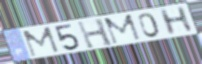0: (138, 12, 161, 38)
5: (53, 22, 82, 52)
H: (75, 17, 116, 51), (157, 5, 195, 37)
M: (102, 13, 143, 46), (21, 26, 62, 58)
